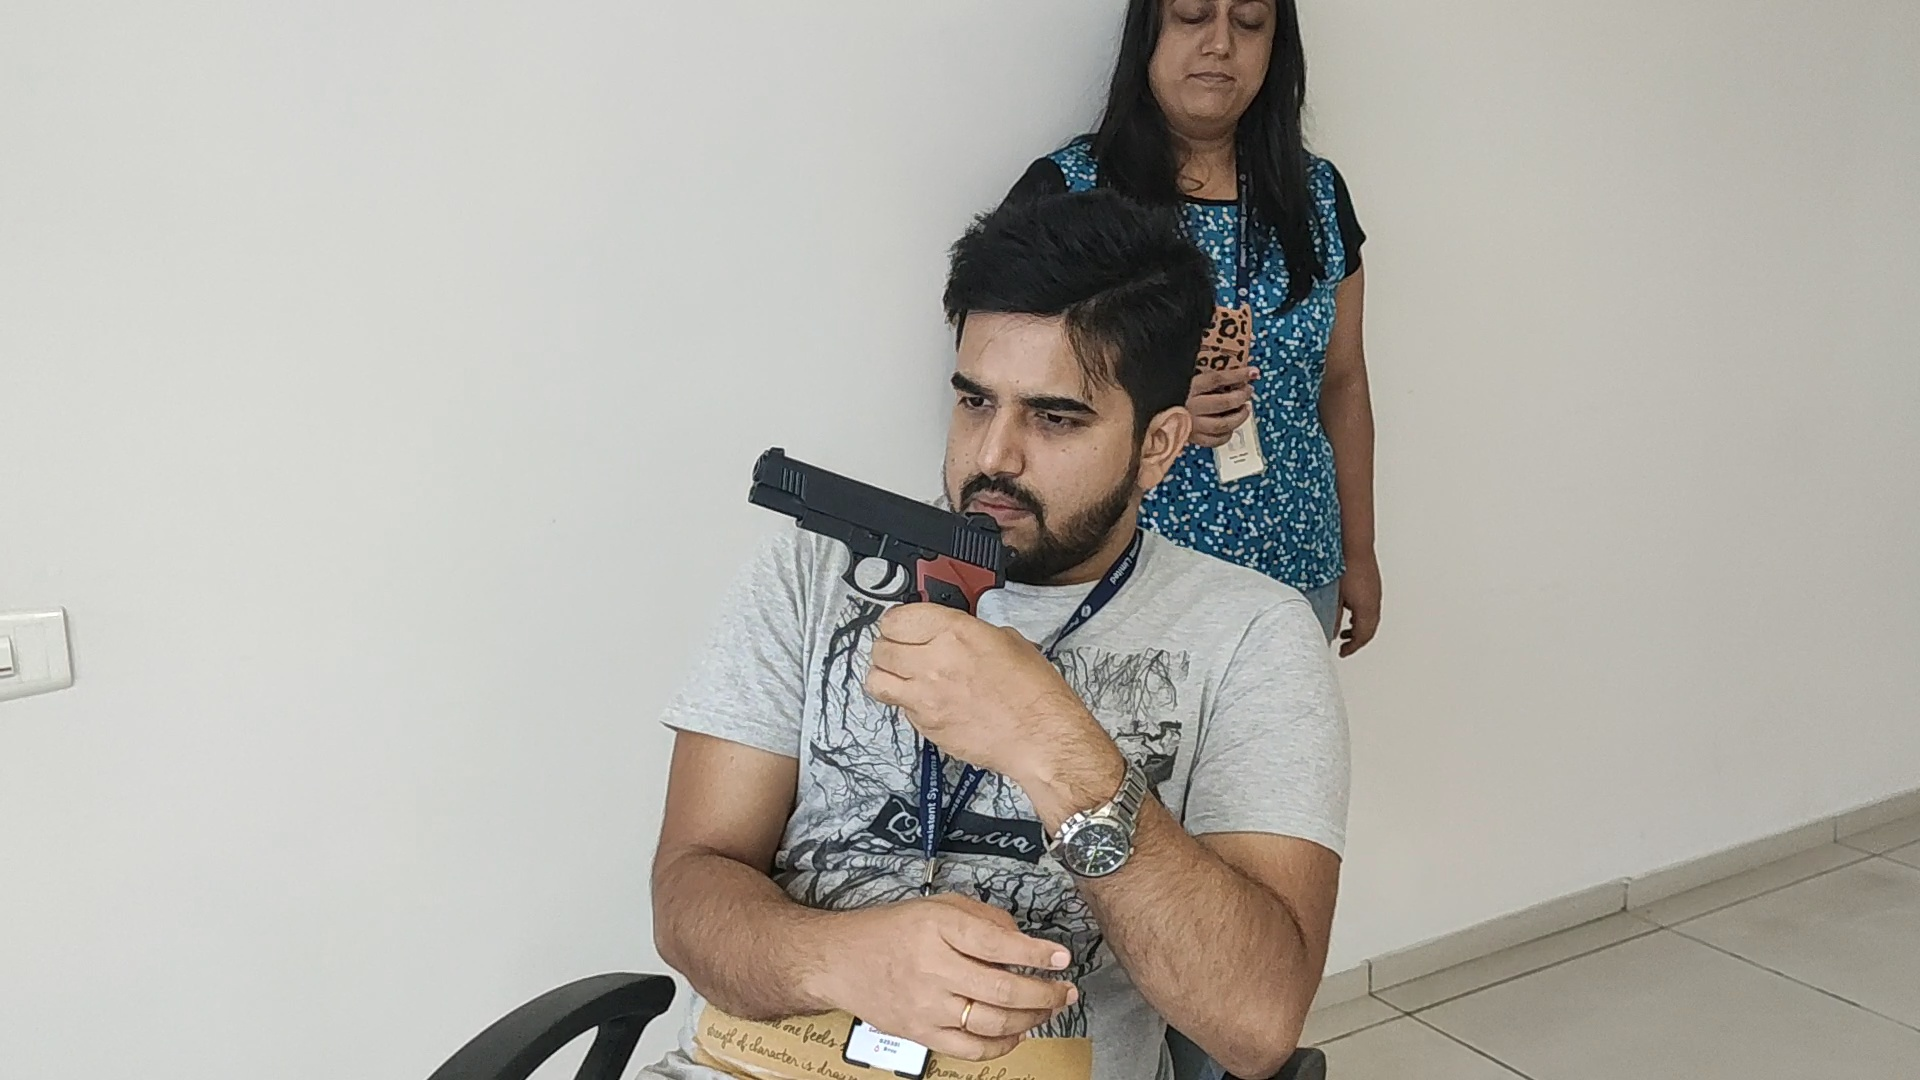gun: (752, 451, 951, 597)
